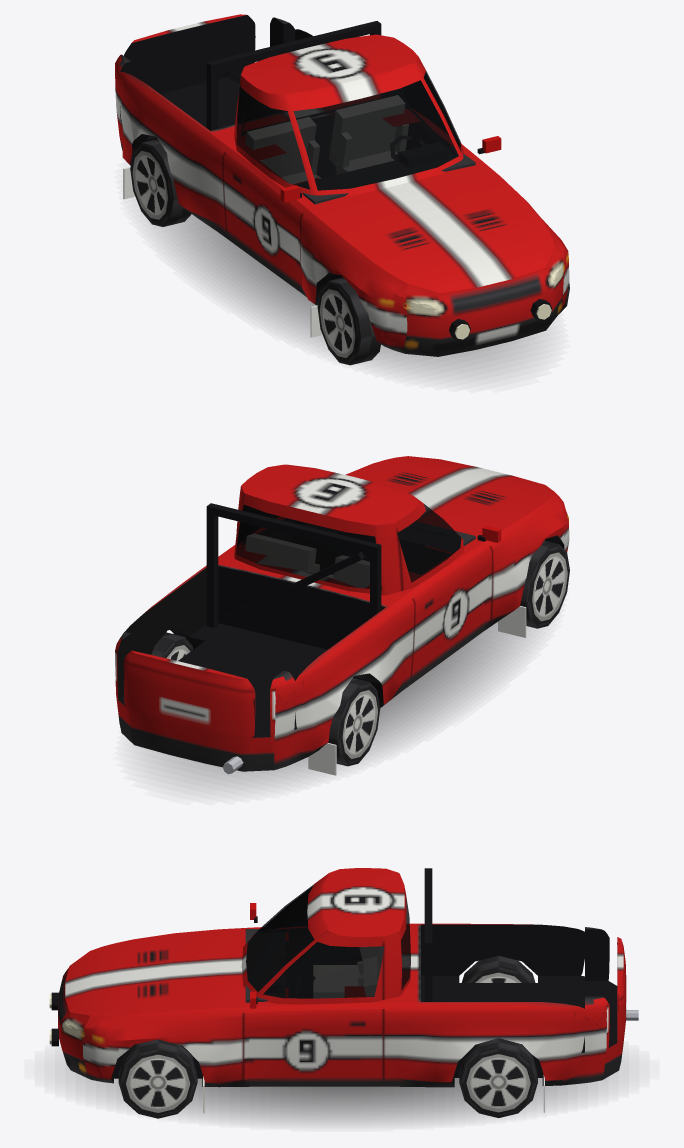
Rendered from isqueiro.glb.
3 views of the same model, one above another, from view 1: azimuth 30°, elevation 25°; view 2: azimuth 150°, elevation 25°; view 3: azimuth 270°, elevation 25° (orthographic). The views are drawn at different scales.
Visible parts, largest first — view 1: Carroceria, Capo_malha, Interior, Porta_D_malha, Sombra, Tampa_malha, Roda_DD, Roda_TD, Porta_E_malha, Farol; view 2: Carroceria, Sombra, Porta_D_malha, Capo_malha, Tampa_malha, Interior, Roda_TD, Roda_DD, Roda_TE; view 3: Carroceria, Porta_E_malha, Sombra, Capo_malha, Interior, Roda_TE, Roda_DE, Roda_TD, Porta_D_malha, Tampa_malha.
Boxes of the visible parts, bbox=[...] form: Carroceria: bbox=[115, 17, 569, 356]; Capo_malha: bbox=[321, 172, 564, 298]; Interior: bbox=[241, 88, 475, 204]; Porta_D_malha: bbox=[223, 76, 314, 286]; Sombra: bbox=[152, 214, 540, 377]; Tampa_malha: bbox=[124, 14, 255, 93]; Roda_DD: bbox=[317, 277, 380, 365]; Roda_TD: bbox=[130, 138, 191, 226]; Porta_E_malha: bbox=[404, 57, 501, 158]; Farol: bbox=[402, 264, 564, 314]; Carroceria: bbox=[115, 459, 569, 775]; Sombra: bbox=[143, 622, 533, 789]; Porta_D_malha: bbox=[396, 497, 501, 676]; Capo_malha: bbox=[350, 456, 563, 531]; Tampa_malha: bbox=[123, 650, 255, 738]; Interior: bbox=[241, 518, 475, 587]; Roda_TD: bbox=[328, 678, 380, 766]; Roda_DD: bbox=[520, 540, 569, 628]; Roda_TE: bbox=[151, 632, 193, 660]; Carroceria: bbox=[49, 868, 638, 1113]; Porta_E_malha: bbox=[243, 930, 383, 1080]; Sombra: bbox=[65, 1062, 618, 1123]; Capo_malha: bbox=[70, 931, 228, 1028]; Interior: bbox=[245, 927, 383, 1002]; Roda_TE: bbox=[459, 1038, 537, 1117]; Roda_DE: bbox=[118, 1039, 197, 1118]; Roda_TD: bbox=[461, 956, 535, 982]; Porta_D_malha: bbox=[250, 888, 311, 930]; Tampa_malha: bbox=[617, 937, 626, 1042].
Size of the model in its own units: 2.44 by 1.52 by 5.24.
Materials: 14 (5 with a texture image).
